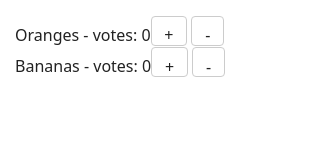
Test: GroceryApp Component › handles multiple votes on the same product
Upvote twice
Click the button "+" in the row of "Oranges".
click(169, 31)  # box [151,16,187,46]
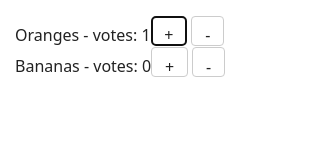
Click the button "+" in the row of "Oranges".
click(169, 31)  # box [151,16,187,46]
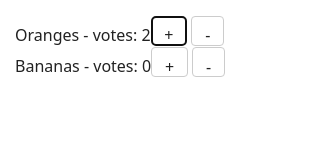
Check: the text "votes: 2" is shown, box [93,24,151,46]
Downvote once
Click the button "-" in the row of "Oranges".
click(208, 31)  # box [192,16,224,46]
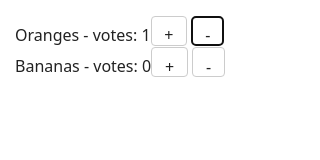
Check: the text "votes: 1" is shown, box [93,24,151,46]
